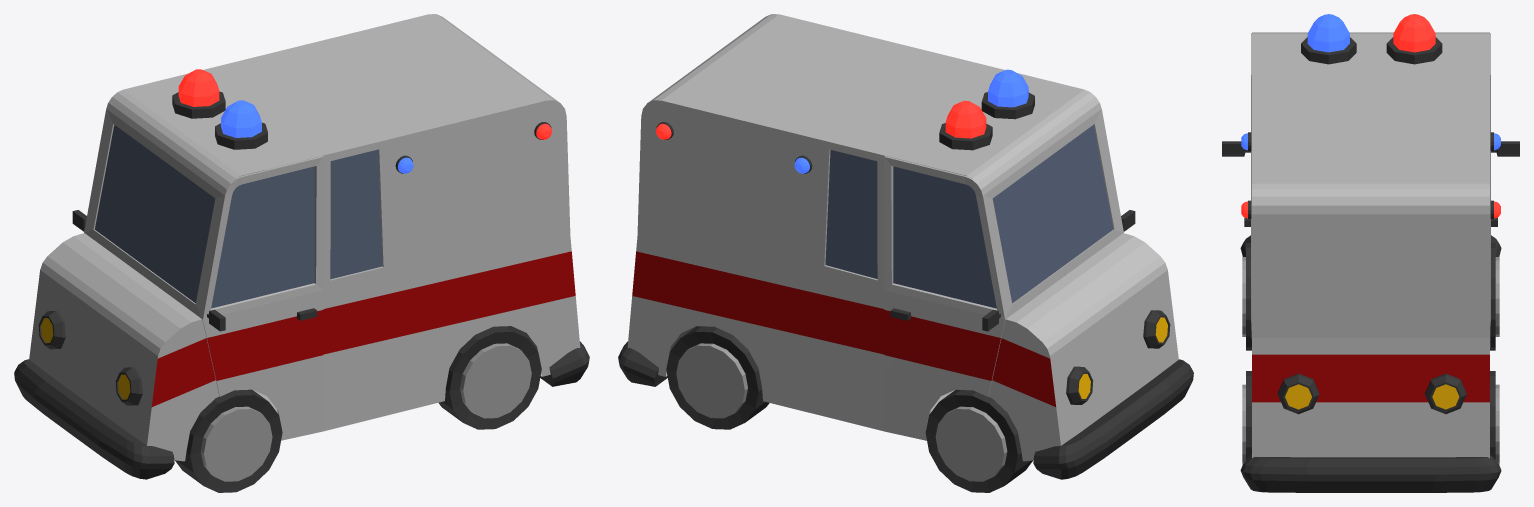
File: CuteAmbulanceWithTexture.fbx
3 renders of one model, left to right at view 1: azimuth 30°, elevation 25°; view 2: azimuth 150°, elevation 25°; view 3: azimuth 270°, elevation 25°, orthographic.
Visible parts, largest first — view 1: Ambulance, RedSiren, BlueSiren; view 2: Ambulance, RedSiren, BlueSiren; view 3: Ambulance, BlueSiren, RedSiren.
Boxes of the visible parts, <box> form: Ambulance: <box>14,14,589,492</box>; RedSiren: <box>178,69,551,139</box>; BlueSiren: <box>221,100,413,173</box>; Ambulance: <box>618,14,1193,492</box>; RedSiren: <box>656,100,986,139</box>; BlueSiren: <box>794,69,1028,173</box>; Ambulance: <box>1222,32,1519,492</box>; BlueSiren: <box>1241,14,1500,150</box>; RedSiren: <box>1241,14,1500,218</box>.
Bounding box in the file's own units: 6.39 × 4.53 × 3.47.
Materials: 3 (1 with a texture image).
